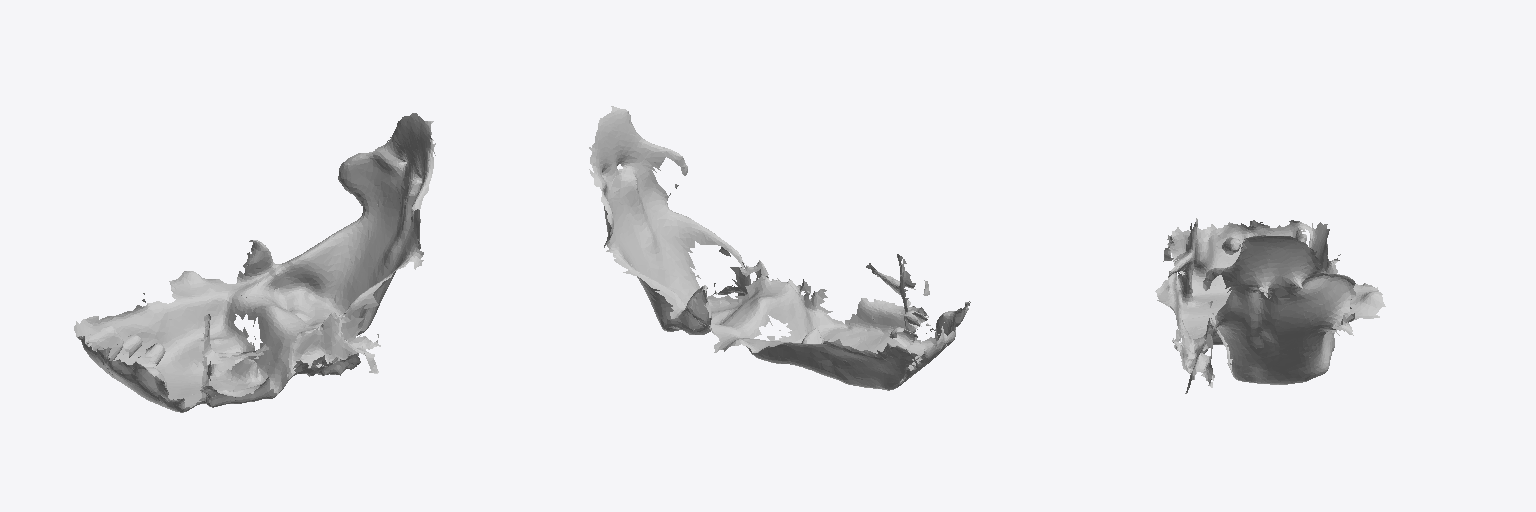
Rendered from interiorscanblendout_03.obj.
3 renders of one model, left to right at view 1: azimuth 30°, elevation 25°; view 2: azimuth 150°, elevation 25°; view 3: azimuth 270°, elevation 25°, orthographic.
Visible parts, largest first — view 1: Untitled_Scan-2024-Oct-03; view 2: Untitled_Scan-2024-Oct-03; view 3: Untitled_Scan-2024-Oct-03.
Part boxes in pixels (bbox=[...]): Untitled_Scan-2024-Oct-03: bbox=[74, 113, 435, 412]; Untitled_Scan-2024-Oct-03: bbox=[589, 106, 970, 390]; Untitled_Scan-2024-Oct-03: bbox=[1155, 218, 1385, 393].
Size of the model in its own units: 148 by 85.98 by 95.93.